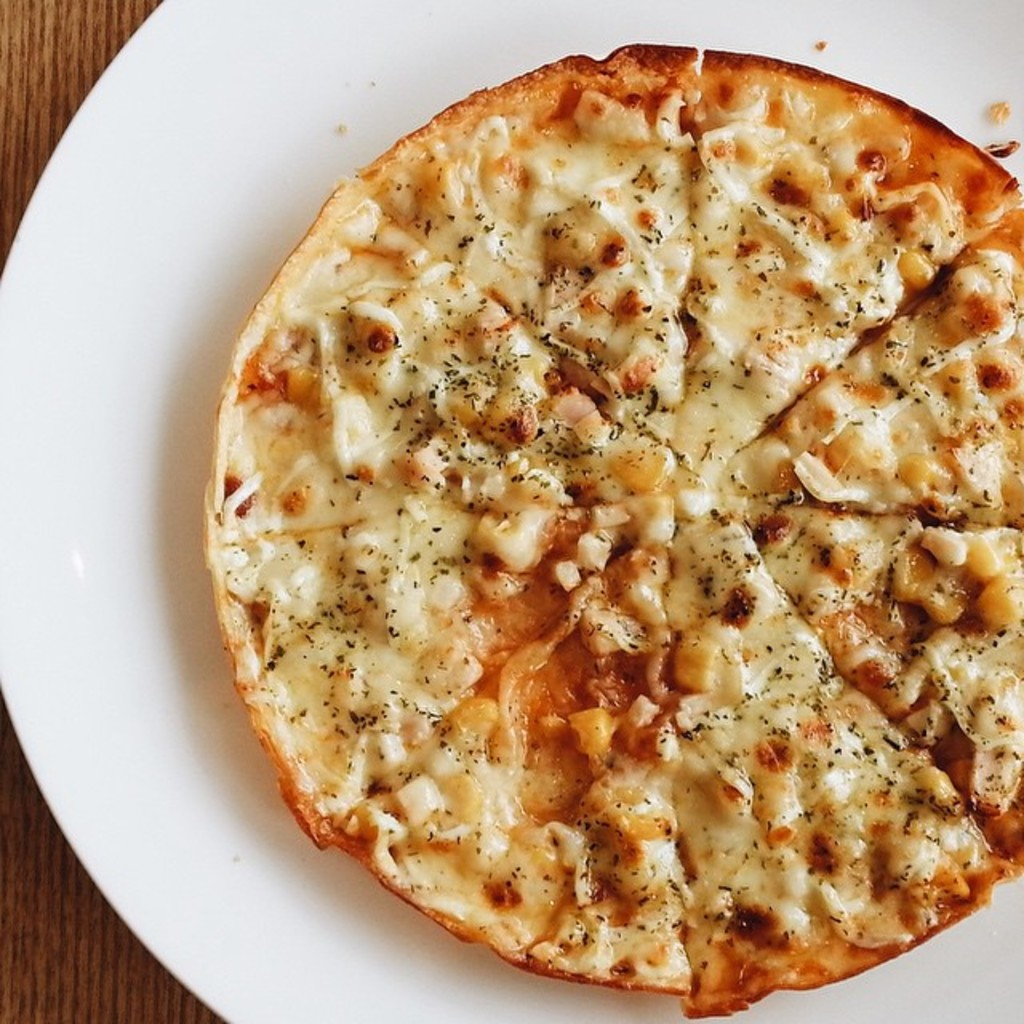Pizza: (193, 36, 1022, 1009)
